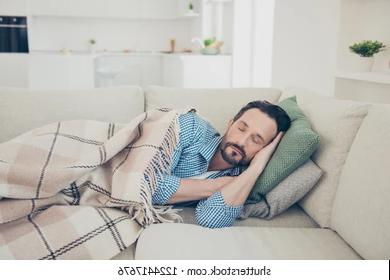blanket: (0, 106, 198, 260)
long sleeve shirt: (142, 112, 244, 229)
